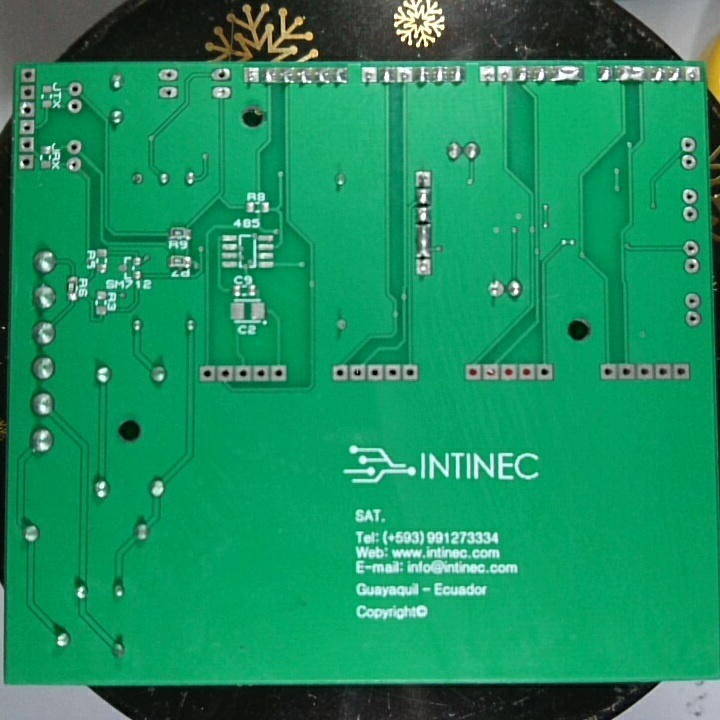F: (396, 66, 425, 85), (684, 64, 704, 90), (210, 67, 236, 86), (671, 360, 692, 383), (157, 66, 181, 86), (158, 83, 183, 102), (413, 168, 434, 189), (347, 361, 367, 383), (681, 150, 697, 177), (211, 83, 236, 100), (496, 63, 514, 86), (332, 363, 352, 383), (518, 361, 537, 382), (486, 279, 505, 300), (233, 363, 252, 384), (683, 203, 699, 227), (599, 360, 617, 381), (416, 257, 434, 278), (244, 65, 261, 87), (215, 363, 231, 386), (479, 65, 497, 85), (20, 68, 41, 85), (684, 256, 700, 278), (686, 309, 702, 331), (361, 66, 377, 88), (680, 134, 698, 153), (653, 361, 671, 380), (618, 361, 636, 380), (536, 362, 555, 380), (199, 365, 218, 383), (19, 153, 37, 172), (18, 116, 36, 135), (682, 238, 699, 258), (684, 289, 701, 309), (384, 363, 401, 382), (333, 318, 352, 335), (64, 155, 83, 172), (401, 363, 417, 383), (271, 363, 287, 383), (637, 363, 655, 380), (480, 360, 497, 378), (463, 363, 481, 380), (67, 138, 85, 155), (499, 361, 516, 378), (66, 98, 84, 114), (68, 80, 84, 98), (681, 186, 696, 205), (19, 83, 38, 98), (128, 169, 142, 189), (19, 101, 36, 117), (19, 135, 37, 150), (367, 363, 381, 381), (253, 365, 269, 379)
P: (415, 221, 433, 258), (553, 65, 584, 86), (616, 64, 647, 85)
